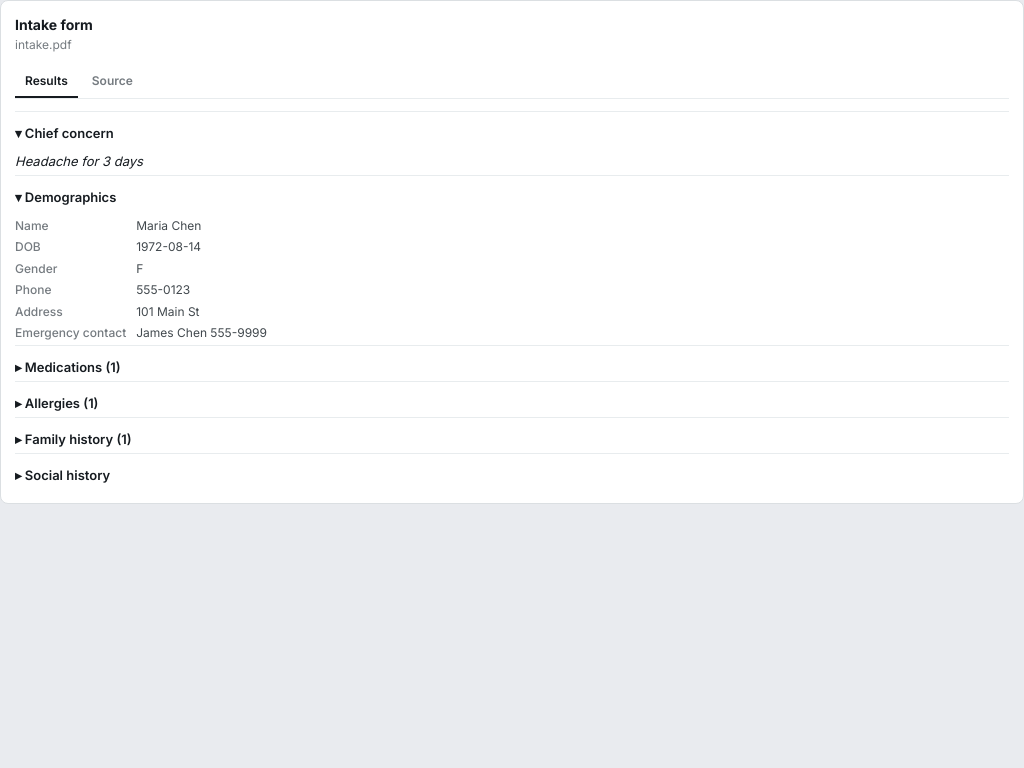
Test: ExtractionResultsPanel › expands collapsible medication & allergy sections on click
The width and height of the screenshot is (1024, 768).
Expected: the text "Lisinopril" is not shown
Click the button "▸ Medications (1)".
click(68, 368)  # box x1=15 y1=354 x2=121 y2=381
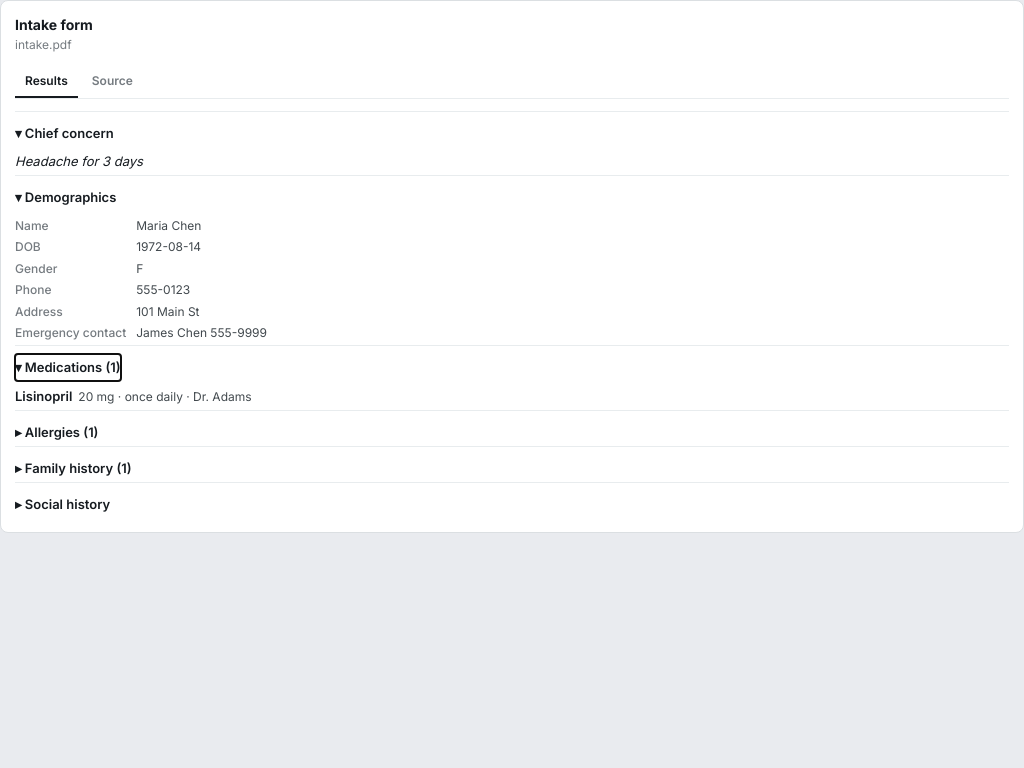
Now the text "Lisinopril" is shown, box x1=15 y1=387 x2=72 y2=406
Now the text "20 mg · once daily · Dr. Adams" is shown, box x1=78 y1=388 x2=252 y2=405
Click the button "▸ Allergies (1)".
click(57, 432)  # box x1=15 y1=419 x2=98 y2=446
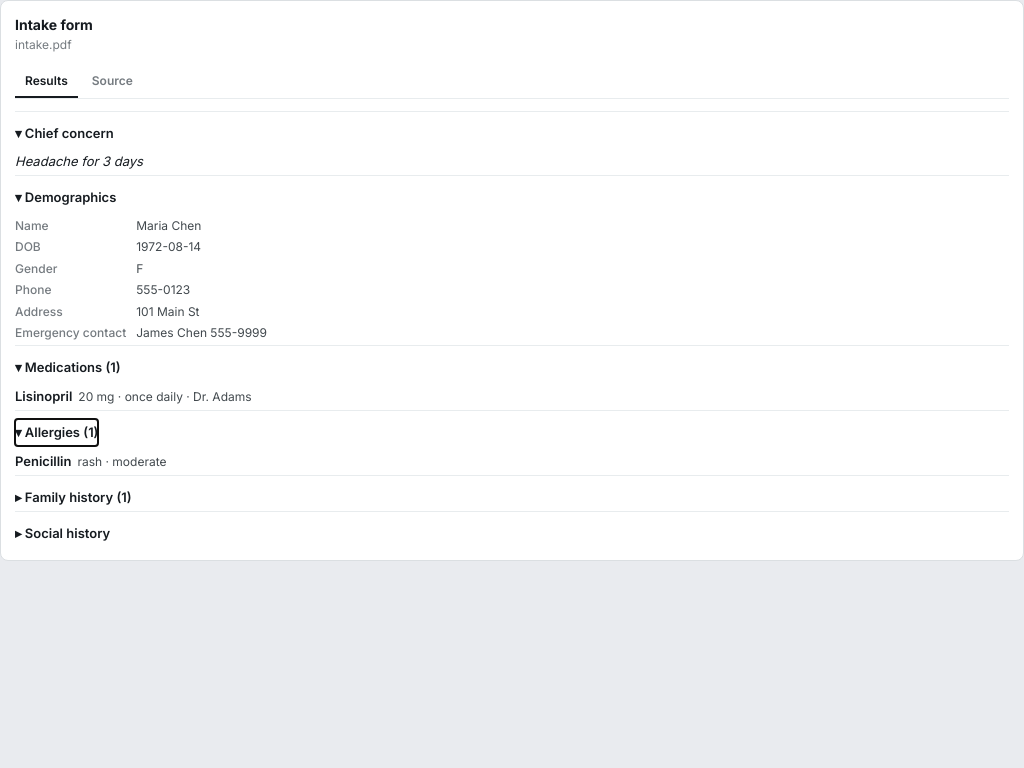
Now the text "Penicillin" is shown, box x1=15 y1=452 x2=72 y2=471
Now the text "rash · moderate" is shown, box x1=78 y1=453 x2=166 y2=470
